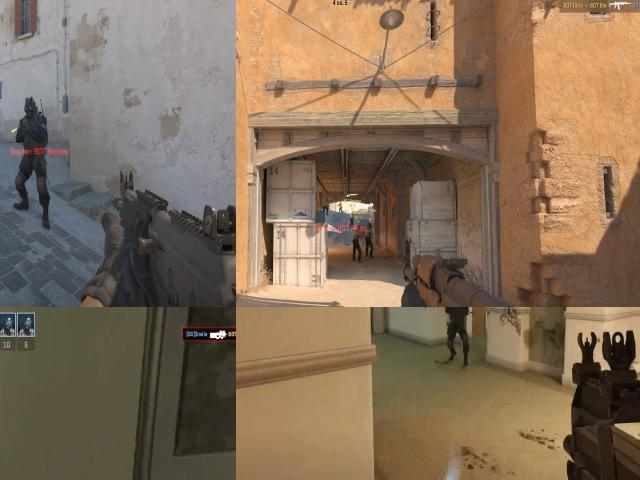CT: (19, 95, 47, 197), (447, 307, 469, 339), (322, 206, 328, 216), (339, 202, 342, 213)
CT-Head: (24, 98, 36, 115), (339, 202, 341, 204)
T: (352, 225, 362, 262), (366, 222, 374, 258), (350, 211, 354, 228)
T-Head: (356, 226, 361, 231), (368, 222, 371, 228)
